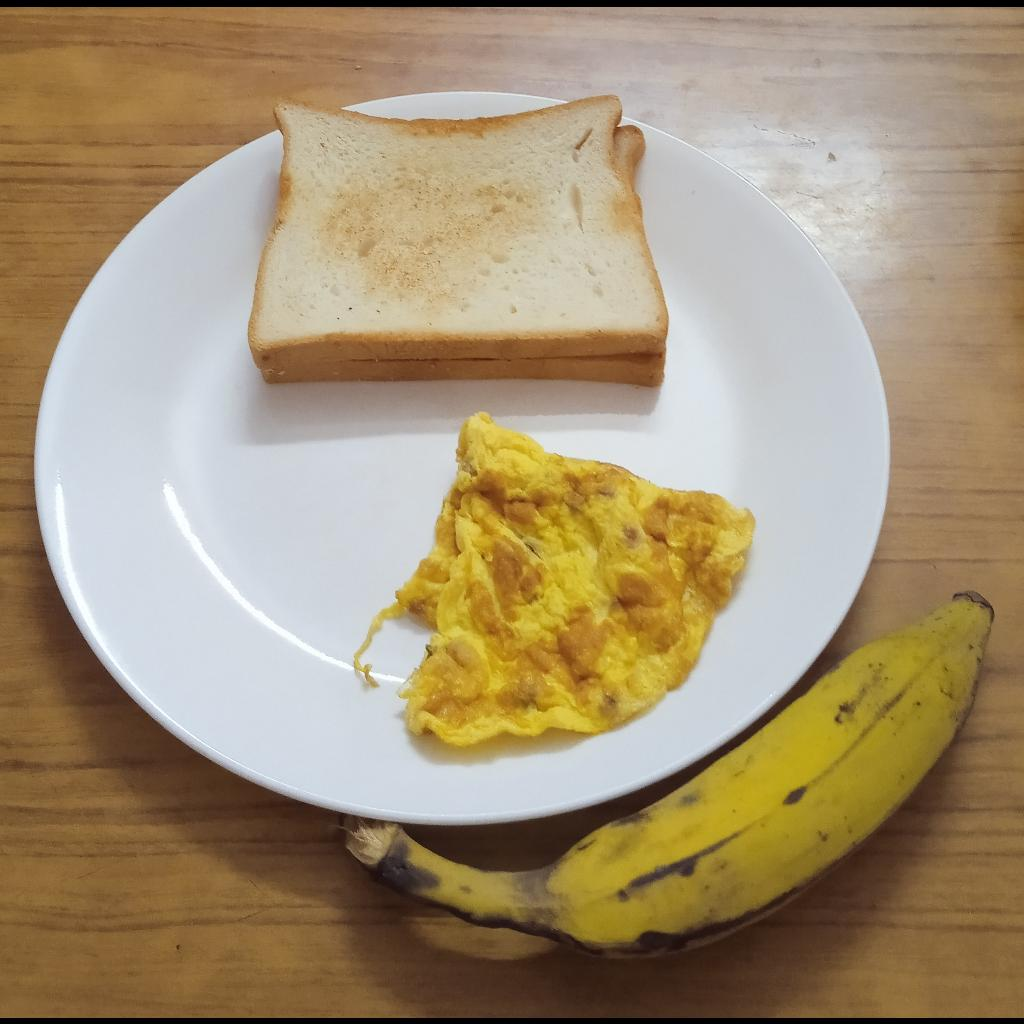banana: (341, 587, 998, 963)
bread: (248, 94, 673, 388)
egg-poached: (352, 412, 759, 754)
